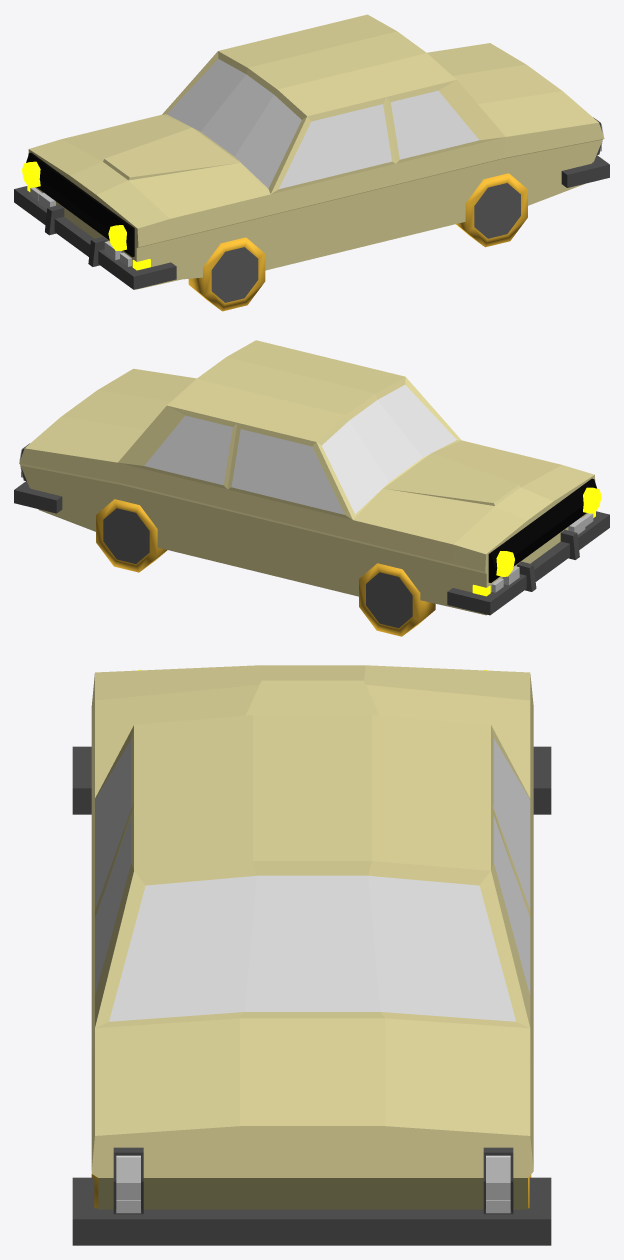
Rendered from Car.fbx.
3 renders of one model, top to bottom at view 1: azimuth 30°, elevation 25°; view 2: azimuth 150°, elevation 25°; view 3: azimuth 270°, elevation 25°, orthographic. The views are drawn at different scales.
Parts seen in each view (by area): view 1: Cube.010; view 2: Cube.010; view 3: Cube.010.
Part boxes in pixels (x1=…): Cube.010: x1=14, y1=14, x2=609, y2=311; Cube.010: x1=14, y1=340, x2=609, y2=636; Cube.010: x1=72, y1=665, x2=551, y2=1245.
Size of the model in its own units: 327 by 109 by 139.
